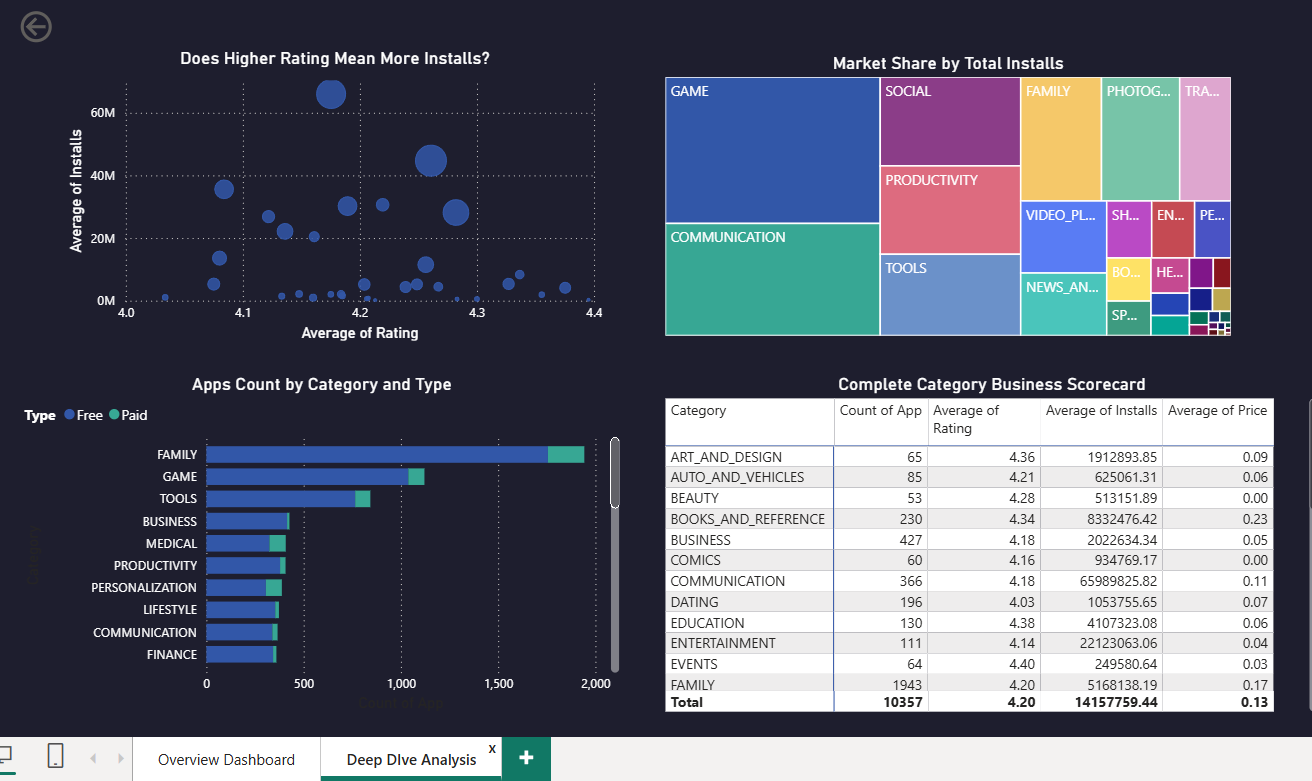

What the dashboard file says about the page in this screenshot:
{"tool":"powerbi","page":{"name":"Deep DIve Analysis","canvas":[1280,720],"ordinal":1},"visuals":[{"type":"scatterChart","title":"Does Higher Rating Mean More Installs?","fields":{"X":["Avg(cleaned_dataset.Rating)"],"Y":["Avg(cleaned_dataset.Installs)"],"Size":["Avg(cleaned_dataset.Reviews)"],"Category":["cleaned_dataset.Category"]},"box":[62.9,54.3,525.7,288.6],"z":0},{"type":"treemap","title":"Market Share by Total Installs","fields":{"Group":["cleaned_dataset.Category"],"Values":["Sum(cleaned_dataset.Installs)"]},"box":[640,58.6,555.7,278.6],"z":1000},{"type":"barChart","title":"Apps Count by Category and Type","fields":{"Category":["cleaned_dataset.Category"],"Y":["CountNonNull(cleaned_dataset.App)"],"Series":["cleaned_dataset.Type"]},"box":[20,368.6,584.3,331.4],"z":2000},{"type":"pivotTable","title":"Complete Category Business Scorecard","fields":{"Rows":["cleaned_dataset.Category"],"Values":["CountNonNull(cleaned_dataset.App)","Avg(cleaned_dataset.Rating)","Avg(cleaned_dataset.Installs)","Avg(cleaned_dataset.Price)"]},"box":[640,368.6,640,331.4],"z":3000},{"type":"actionButton","box":[17.1,14.3,45.7,40],"z":4000}]}

Visuals, with their boxes on the page's 1280x720 design canvas (x1, y1, x2, y2). These are canvas units, not pixel positions in the 1312x781 screenshot, which may show the page scaled, cropped or inside an application window:
"Does Higher Rating Mean More Installs?" scatterChart: [x1=63, y1=54, x2=589, y2=343]
"Market Share by Total Installs" treemap: [x1=640, y1=59, x2=1196, y2=337]
"Apps Count by Category and Type" barChart: [x1=20, y1=369, x2=604, y2=700]
"Complete Category Business Scorecard" pivotTable: [x1=640, y1=369, x2=1280, y2=700]
actionButton: [x1=17, y1=14, x2=63, y2=54]
